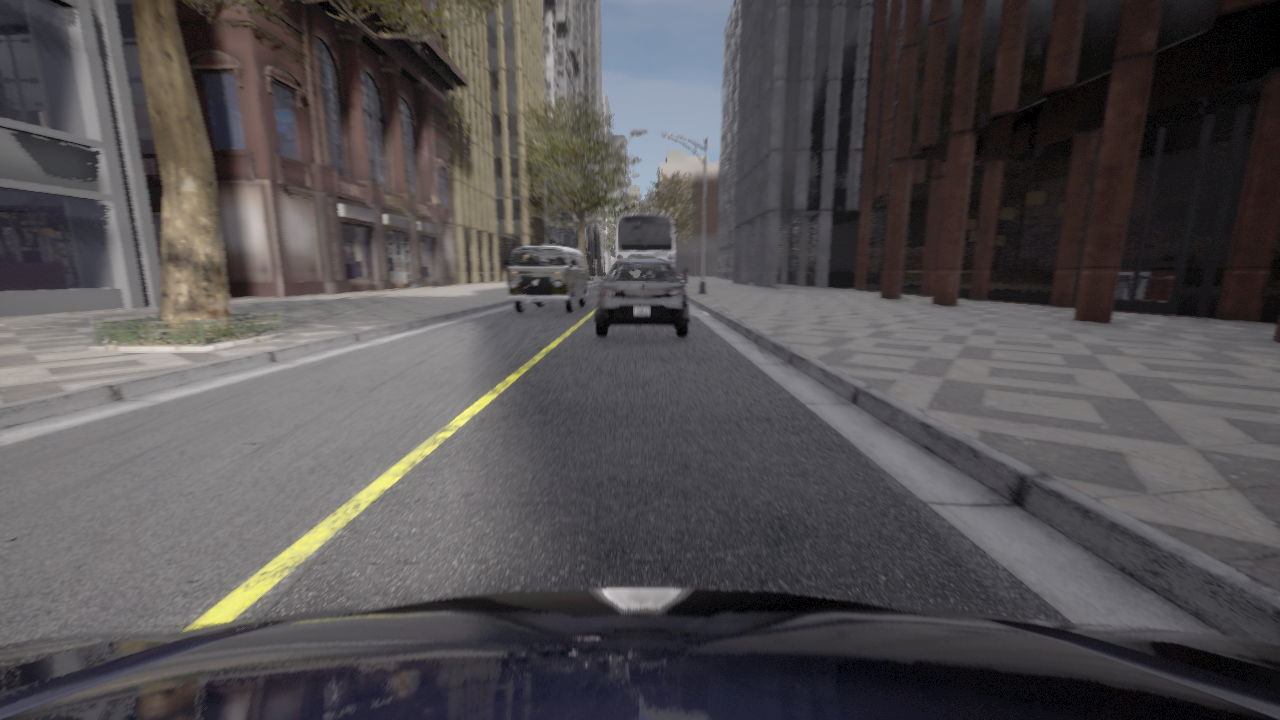cyclist: (0, 588, 1279, 719), (595, 259, 689, 337), (504, 245, 588, 313), (613, 213, 675, 272), (628, 255, 655, 258)
pedestrian: (683, 264, 688, 282)
